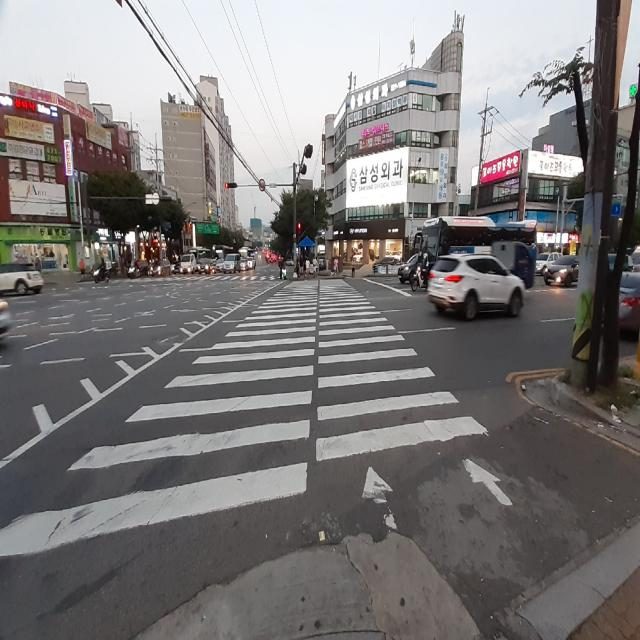빨간불: (298, 222, 300, 238)
횡단보도: (0, 278, 513, 556)
